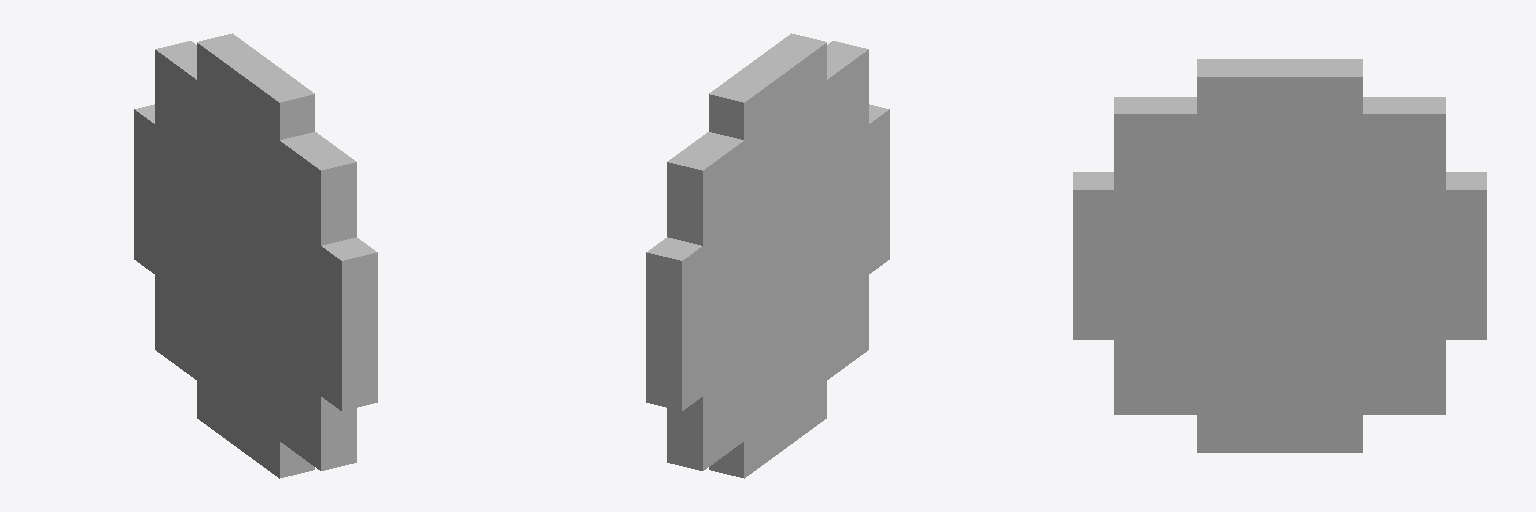
Rendered from Target.obj.
The picture shows the model from 3 angles: view 1: azimuth 30°, elevation 25°; view 2: azimuth 150°, elevation 25°; view 3: azimuth 270°, elevation 25°; orthographic projection.
Bounding box in the file's own units: 0.05 × 0.5 × 0.5.